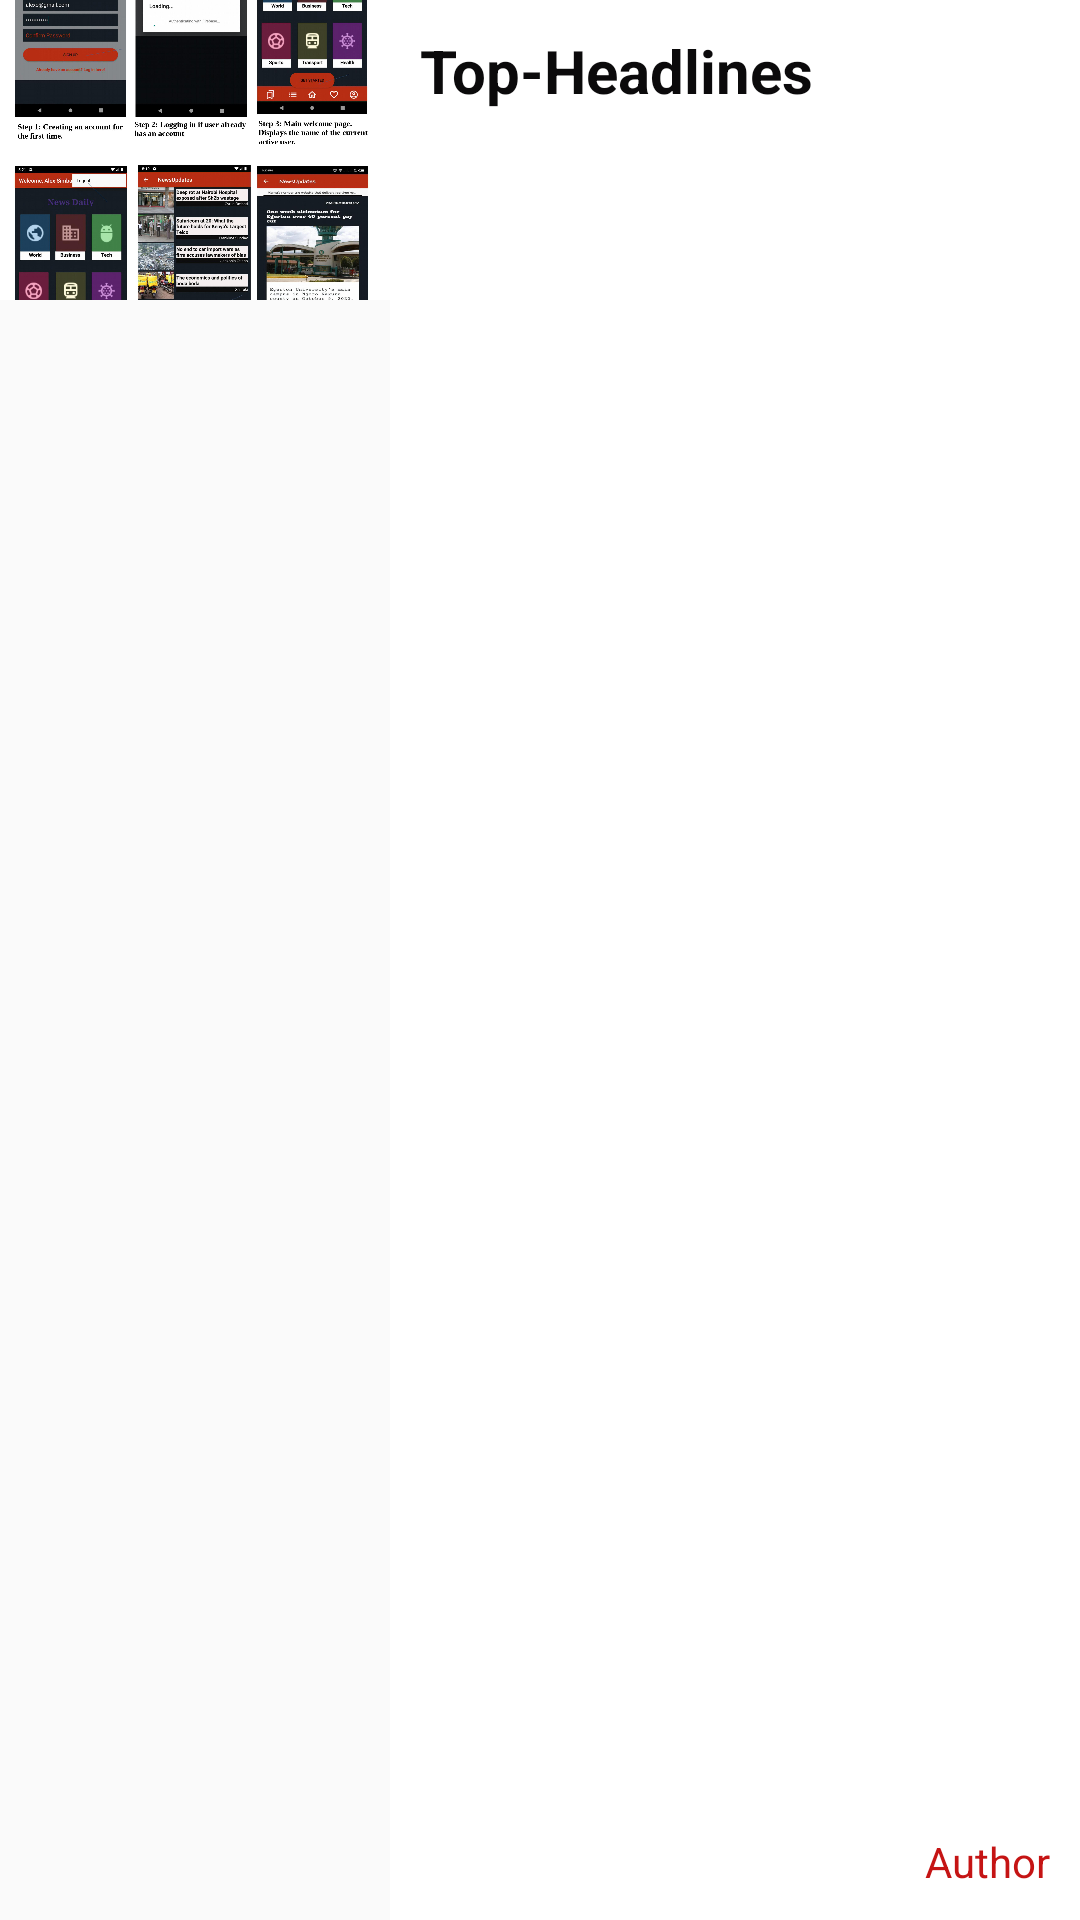

Icons on this 1080*1920 Android screen, each with its box as (x1=x1, y1=y1, x2=x2, y2=y2):
newsupdatesdemo: (x1=15, y1=0, x2=368, y2=300)
